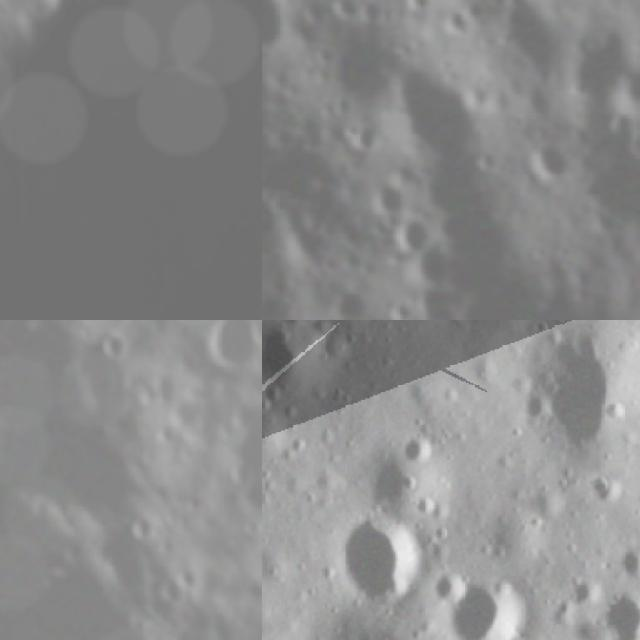crater: (322, 504, 434, 610), (392, 64, 486, 168), (445, 568, 539, 640), (322, 38, 388, 104), (211, 320, 262, 367), (599, 582, 640, 640), (525, 142, 576, 184), (385, 217, 436, 255), (262, 0, 292, 61), (546, 592, 585, 635), (328, 289, 375, 320), (369, 183, 406, 220), (591, 471, 625, 507), (156, 574, 191, 608), (402, 435, 438, 468), (94, 328, 131, 359), (438, 7, 472, 40), (599, 396, 632, 427), (262, 193, 282, 242), (620, 544, 640, 585), (460, 0, 488, 29), (471, 150, 502, 176), (330, 0, 362, 23), (359, 0, 382, 27), (388, 299, 415, 320), (137, 514, 159, 537), (340, 120, 361, 144), (404, 0, 430, 10), (488, 0, 507, 12)
